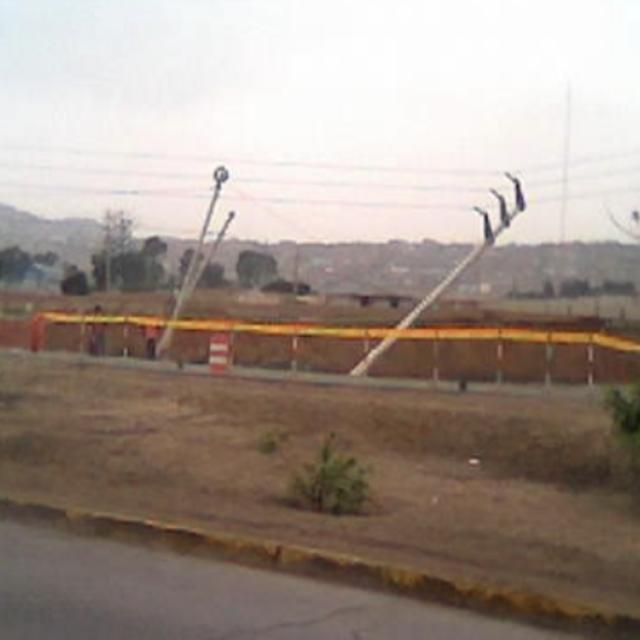Inclined Pole: (343, 168, 533, 379), (153, 162, 234, 357)
